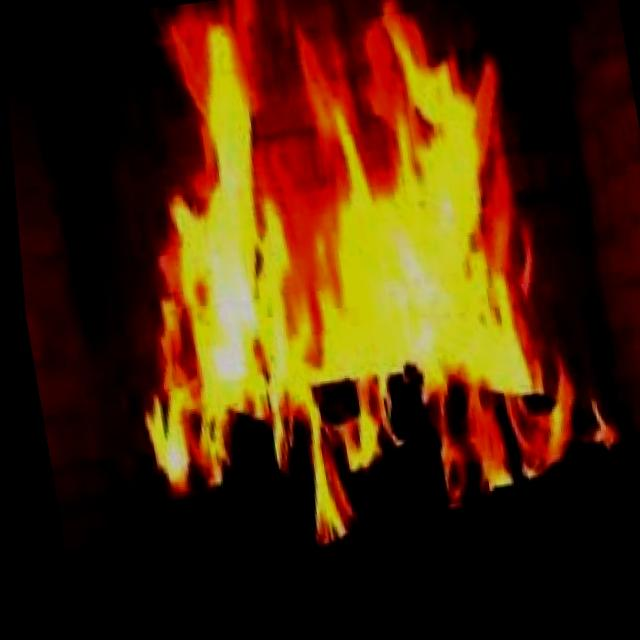Fire: (68, 0, 622, 567)
